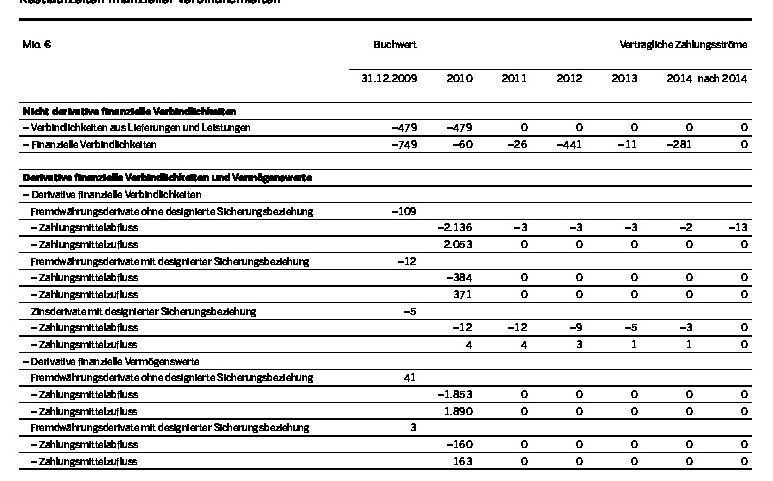table: (0, 0, 773, 481)
